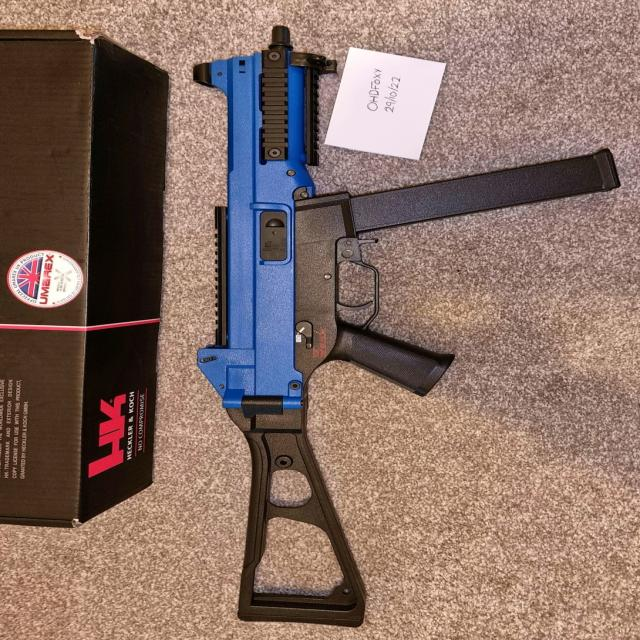Gun: (176, 9, 598, 633)
